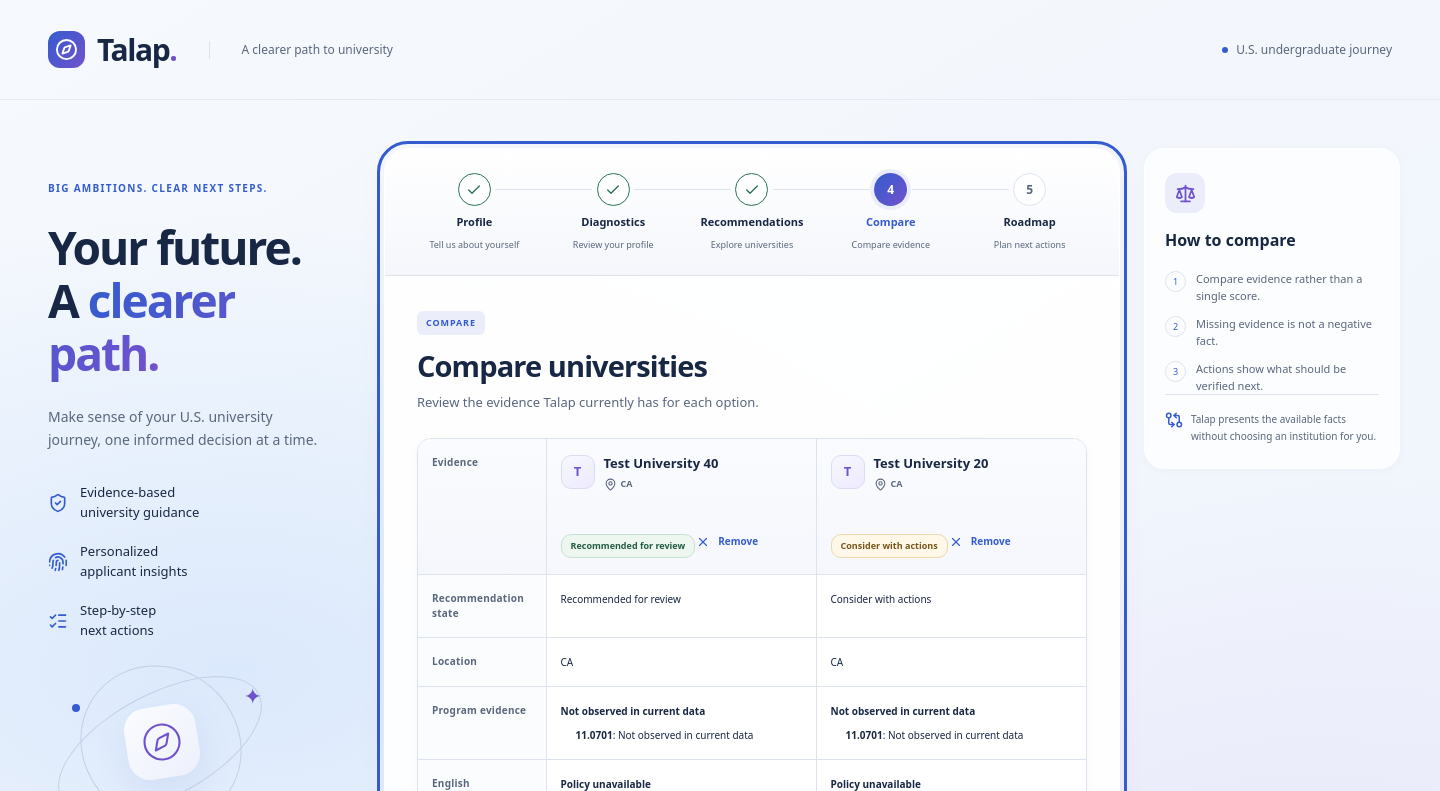
Test case: university comparison › removes a university, persists the identifier change, and returns to the required state
The width and height of the screenshot is (1440, 791).
Click the button with aria-label "Remove Test University 40 from comparison": (727,542) [695, 526, 759, 558]
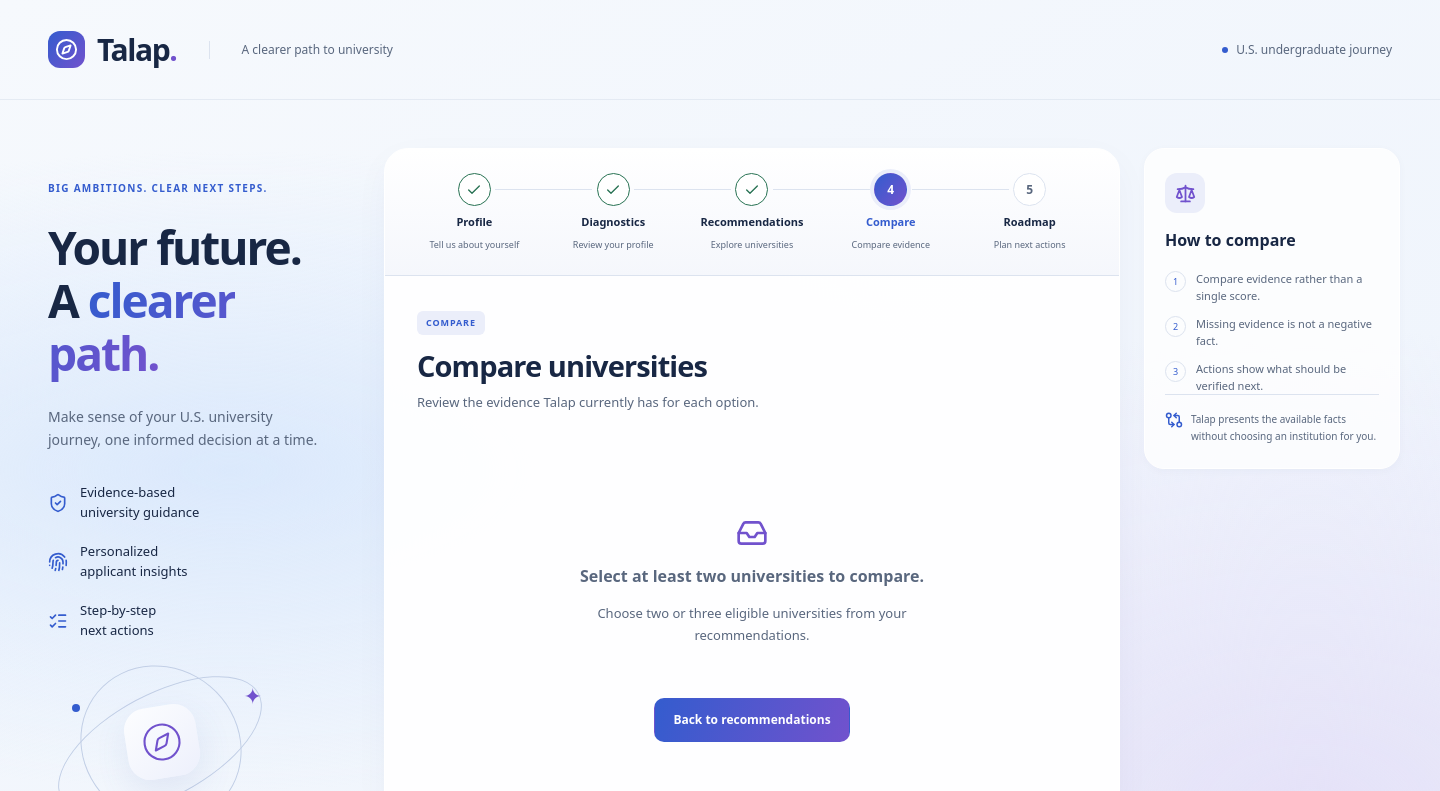
Check: the heading "Select at least two universities to compare." is shown, box [580, 565, 924, 588]
